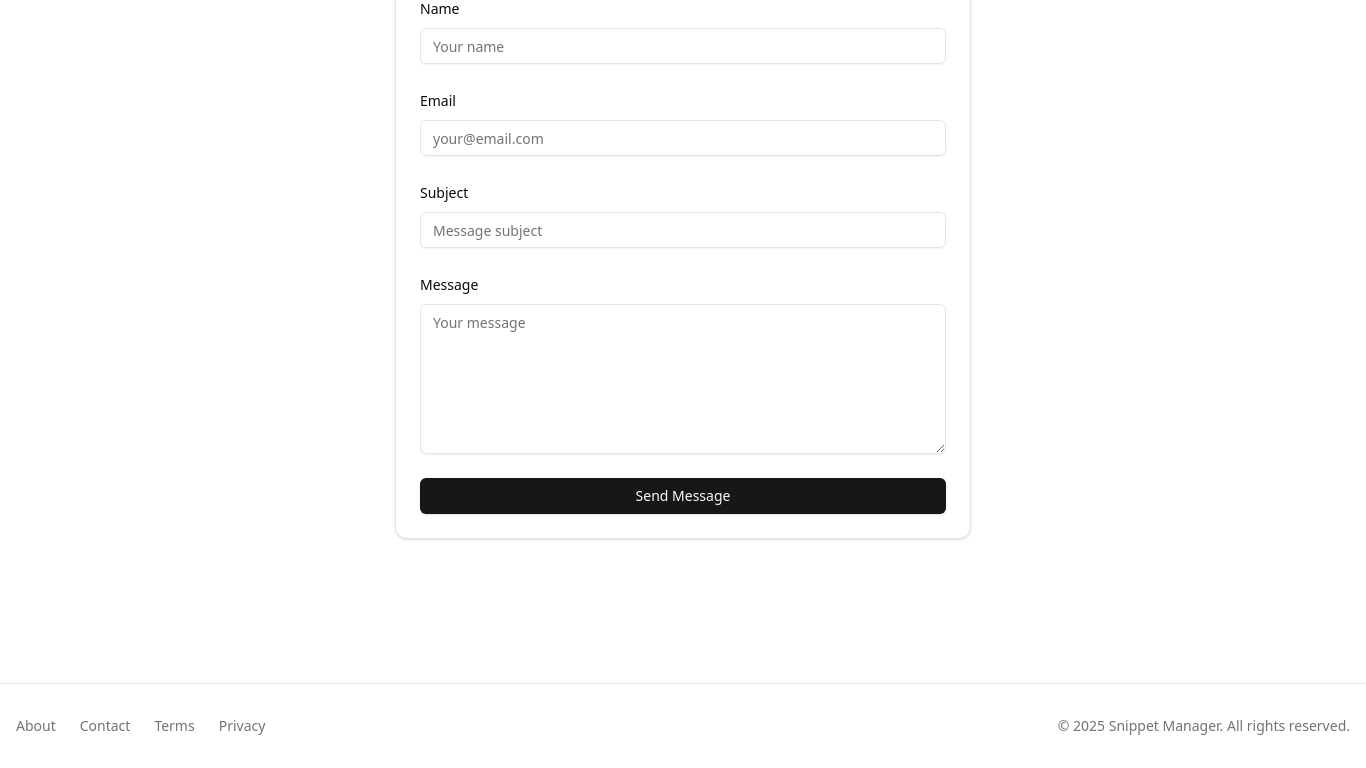
Test: Contact Page › validates required fields
(page scrolled)
Click submit without filling fields
Click the button "Send Message": (683, 496) [420, 478, 946, 514]
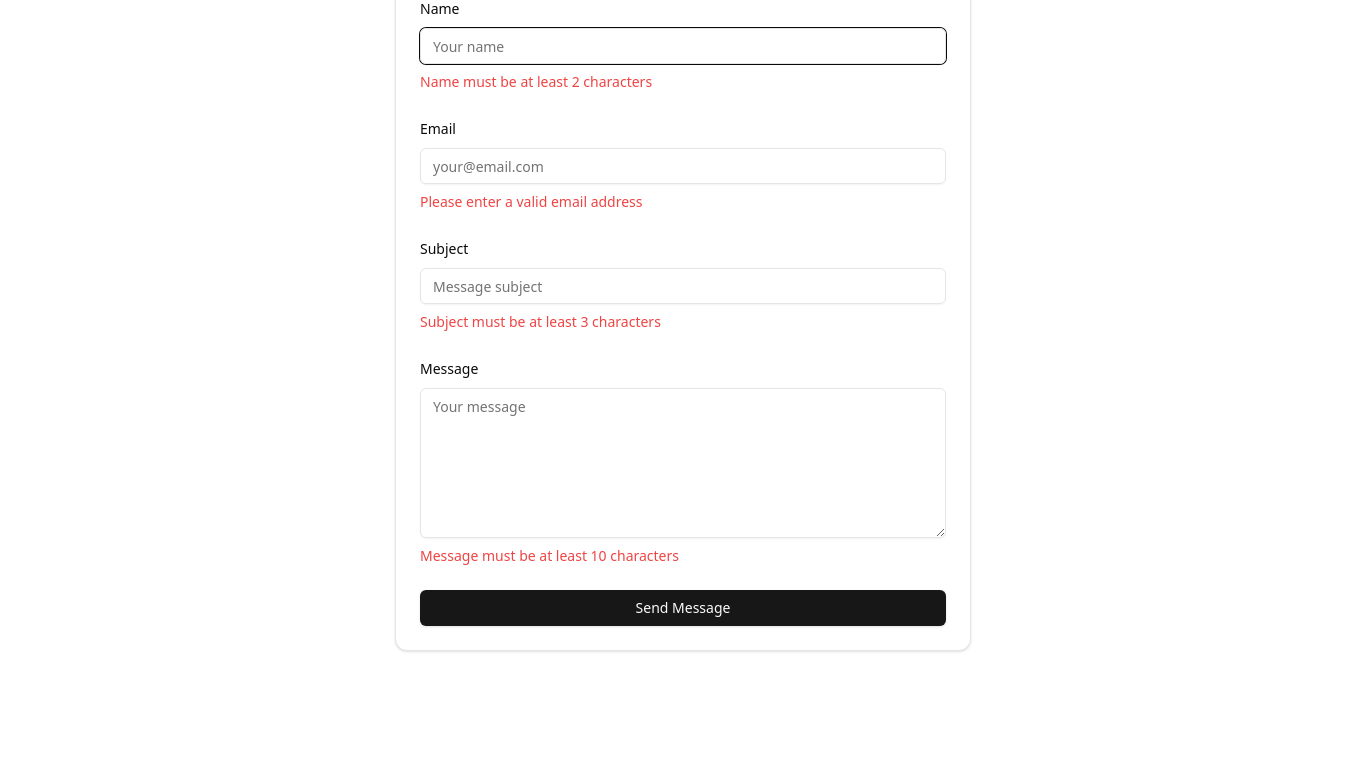
Now the text "Name must be at least 2 characters" is shown, box [420, 72, 652, 91]
Now the text "Please enter a valid email address" is shown, box [420, 192, 642, 211]
Now the text "Subject must be at least 3 characters" is shown, box [420, 312, 661, 331]
